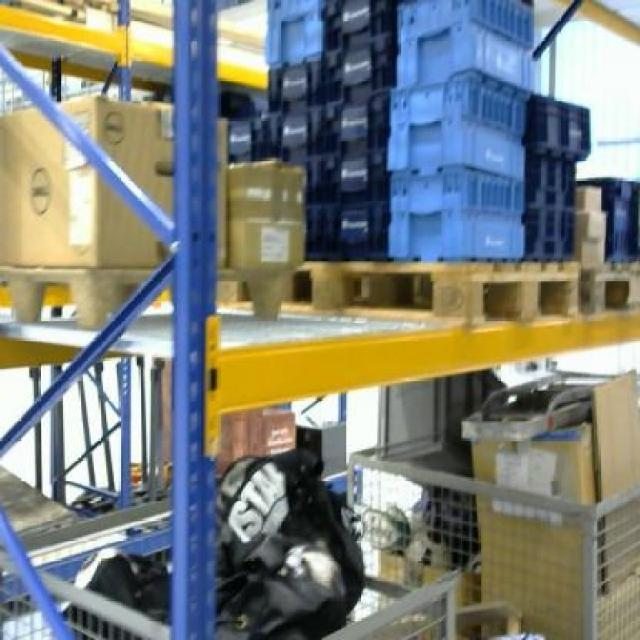box: (1, 94, 226, 268), (470, 438, 592, 626), (228, 166, 304, 268)
